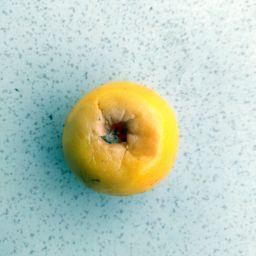Unripe: (65, 81, 179, 195)
